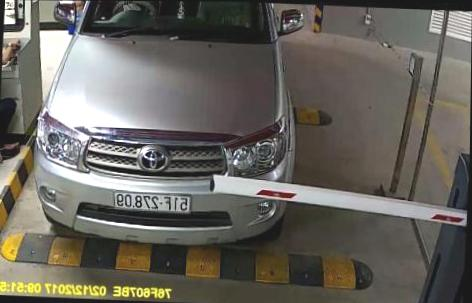License_Plate: (112, 181, 193, 218)
